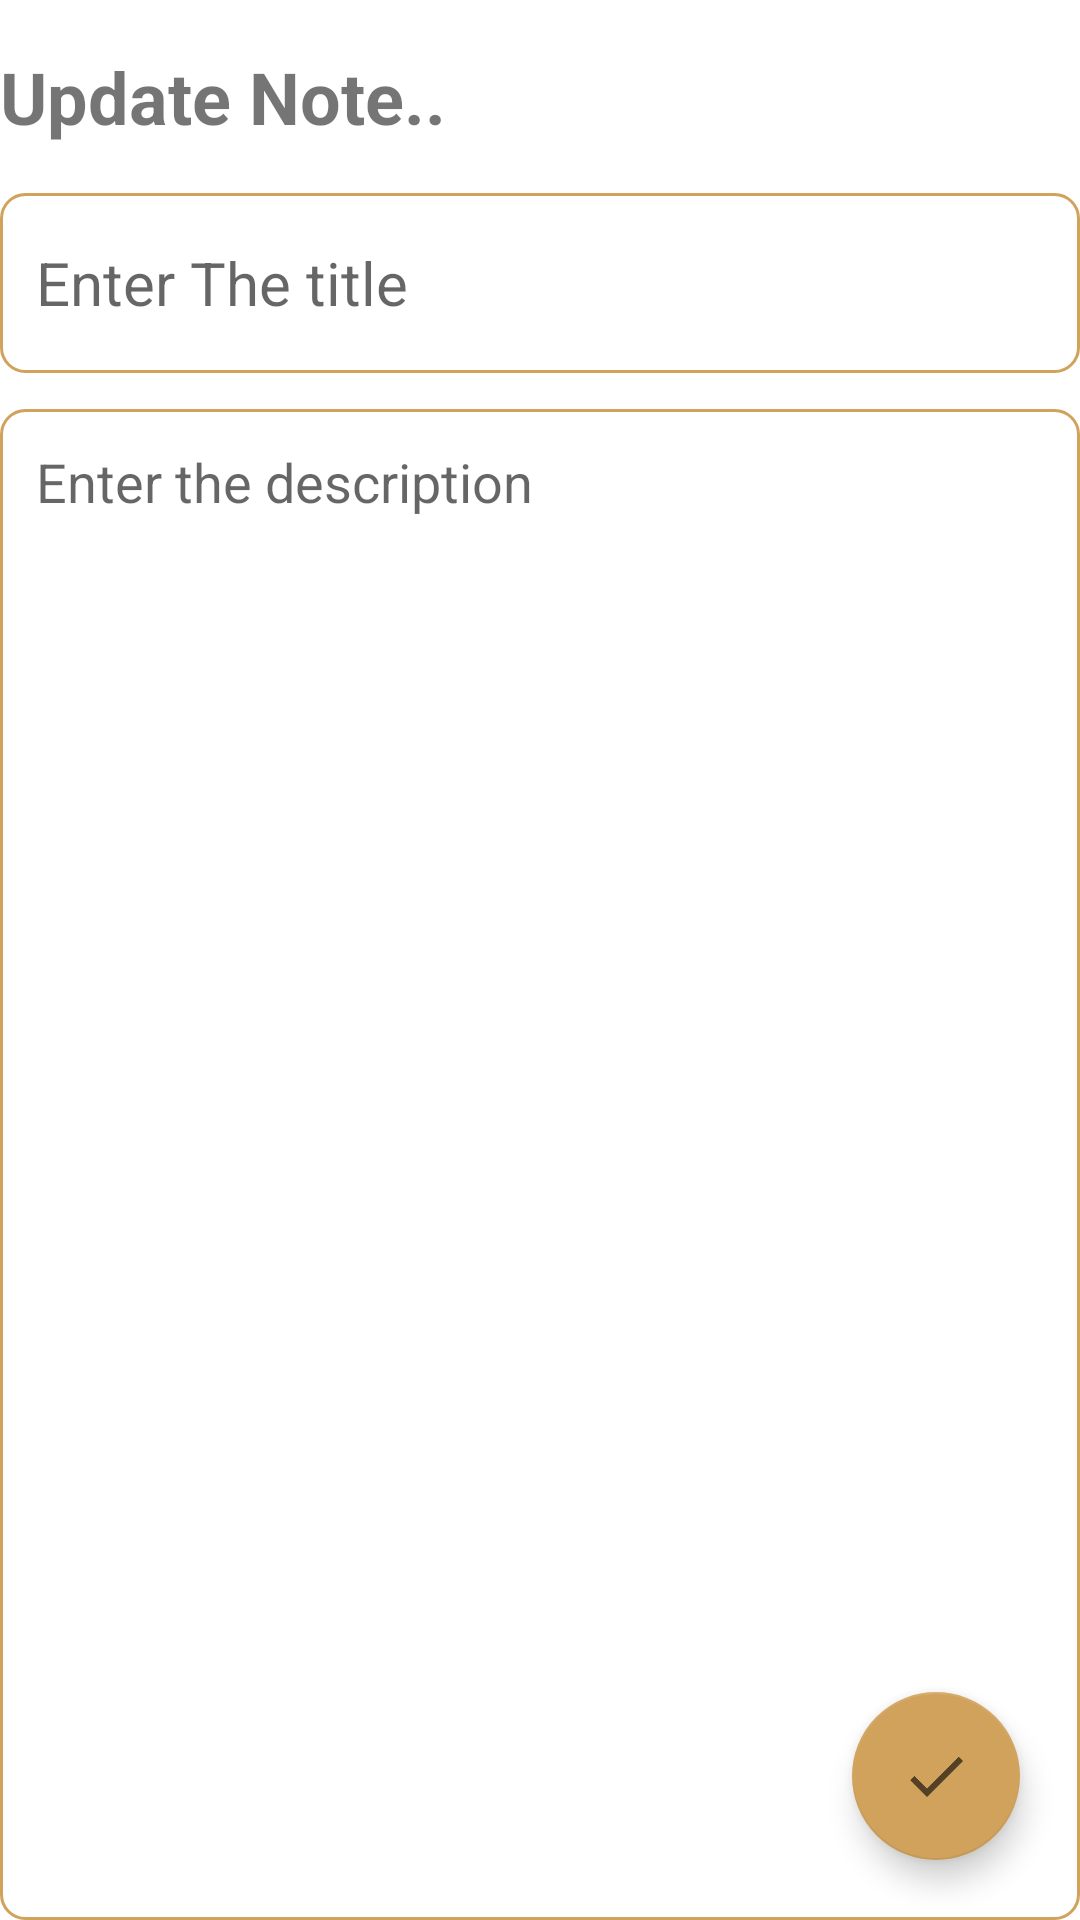

Locate icon controls on the screen. Image size 1080 x 1920, boxes as (x1=x1, y1=y1, x2=x2, y2=y2).
done: (x1=852, y1=1692, x2=1020, y2=1860)
